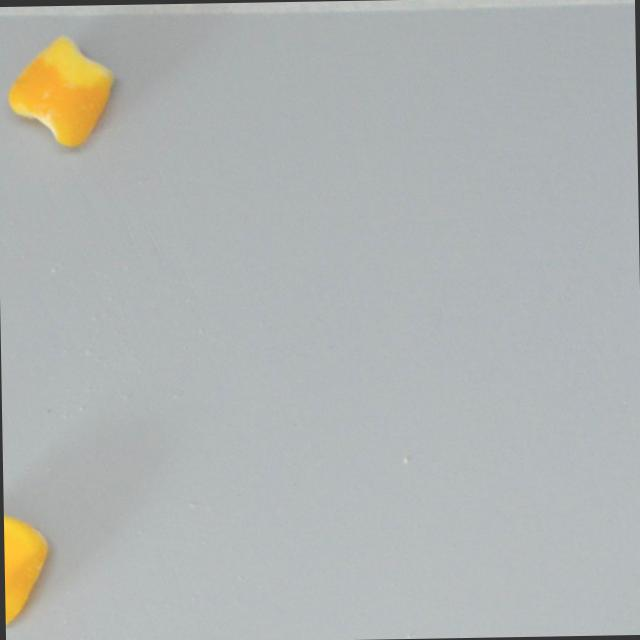no_canjicado: (3, 32, 115, 148), (3, 506, 52, 623)
